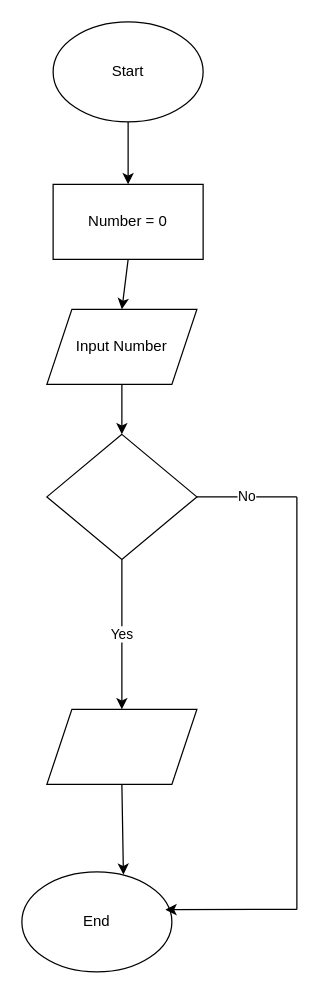
The diagram is 329 pixels wide and 994 high, and some of its shapes have lost their labels. The shapes that lost their labels are listed below. From the top down, each one's centre as x and y in pixels, then its label:
(121,496): if Number==0
(121,746): Display Number
